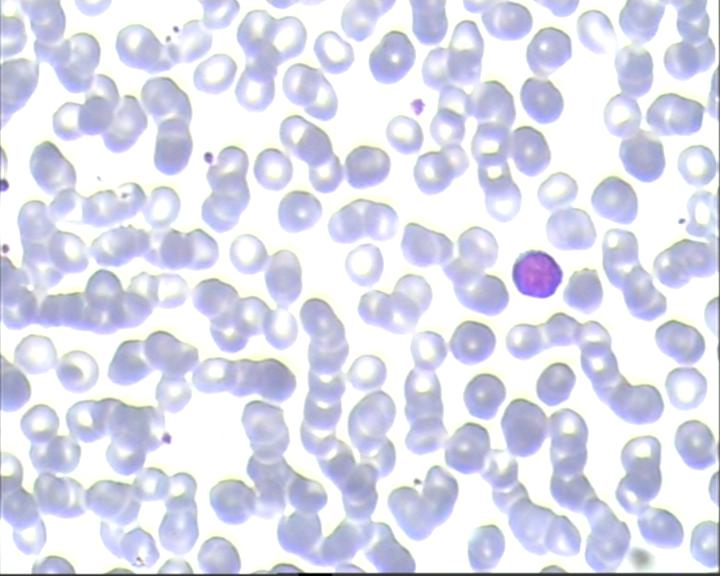lymp: (505, 243, 566, 303)
